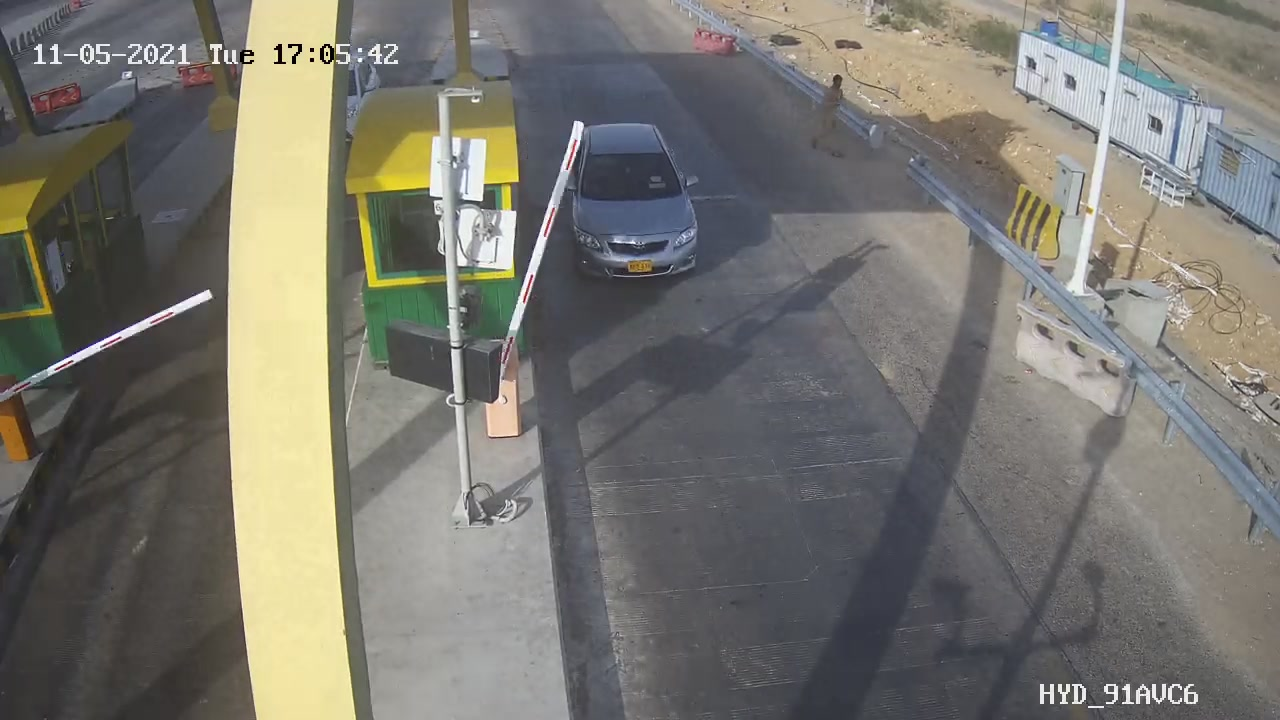F1: (547, 108, 722, 299)
